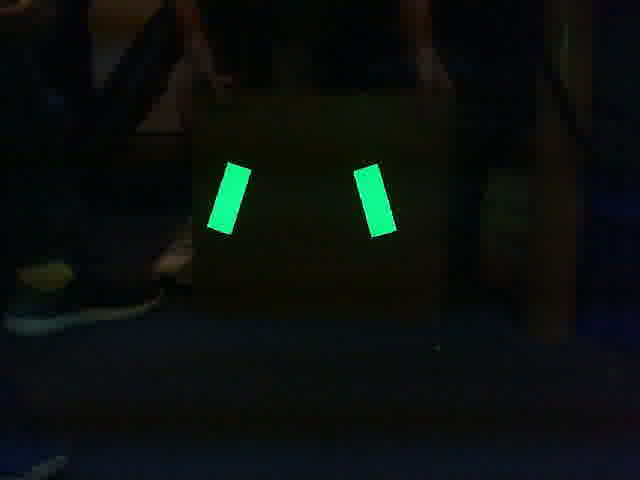target: (206, 161, 399, 237)
